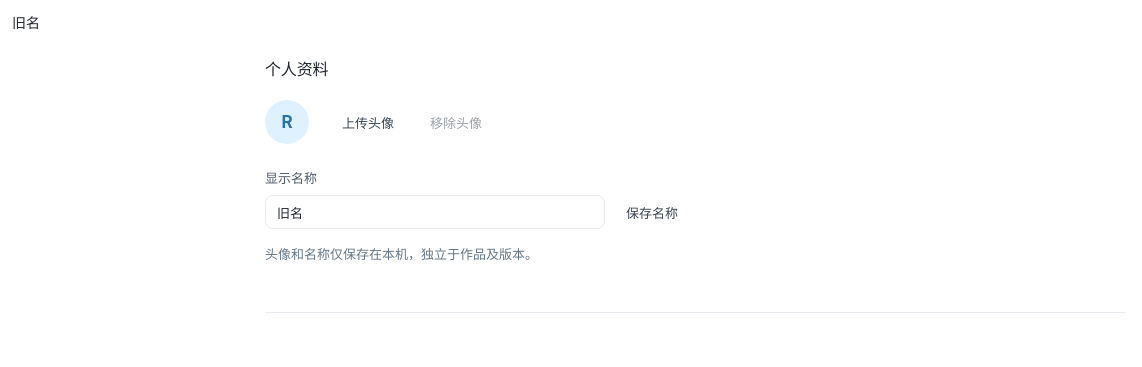
Scenario: 个人资料交互 › 提交失败保留输入和旧资料，能够重试
Replace the text in the field labelled "显示名称" with "新名" at (435, 212), box [265, 195, 605, 229]
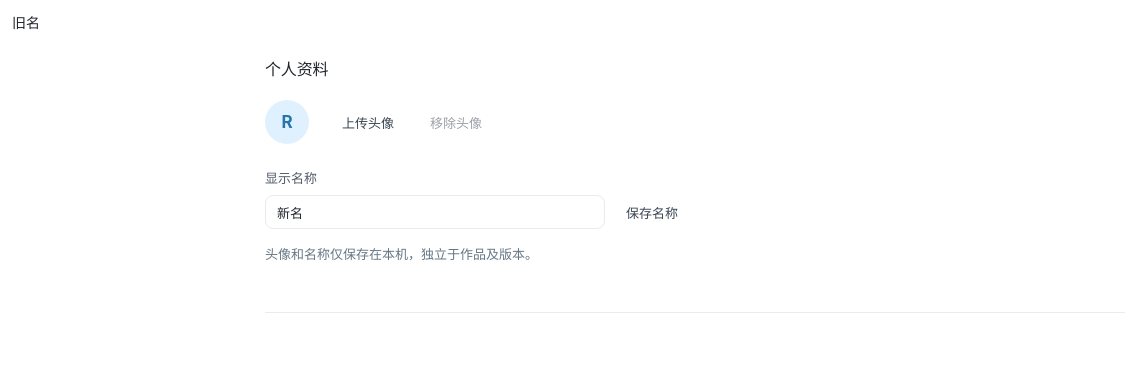
Click the button "保存名称".
click(652, 212)  # box [613, 195, 691, 229]
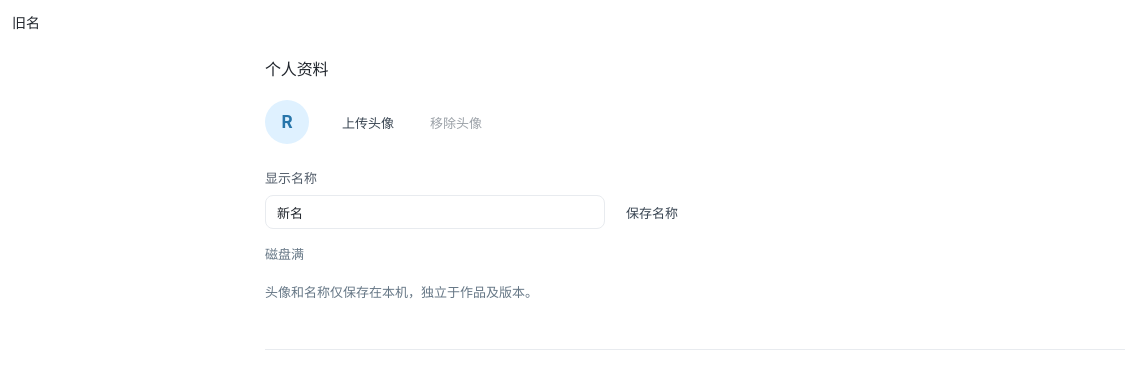
Expected: the text with test id "name" reads "旧名", [12, 14, 40, 31]
Expected: the message reads "磁盘满", [265, 246, 304, 262]
Click the button "保存名称".
click(652, 212)  # box [613, 195, 691, 229]
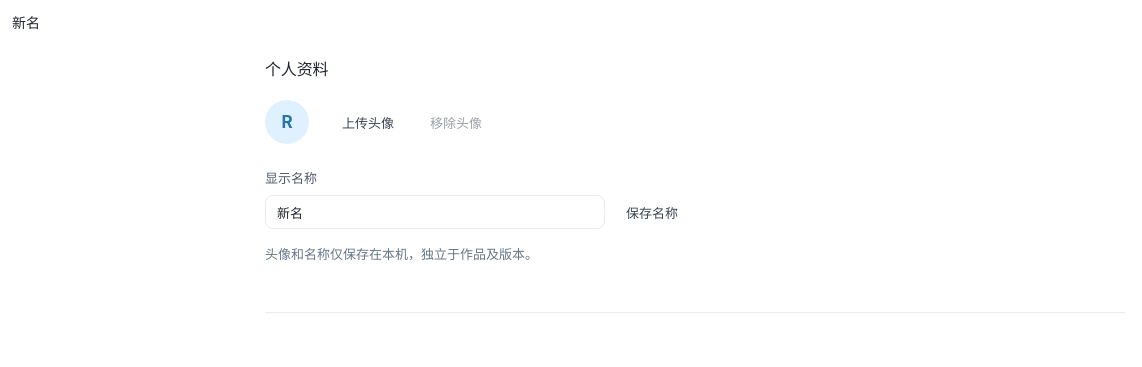
Expected: the text with test id "name" reads "新名", [12, 14, 40, 31]
